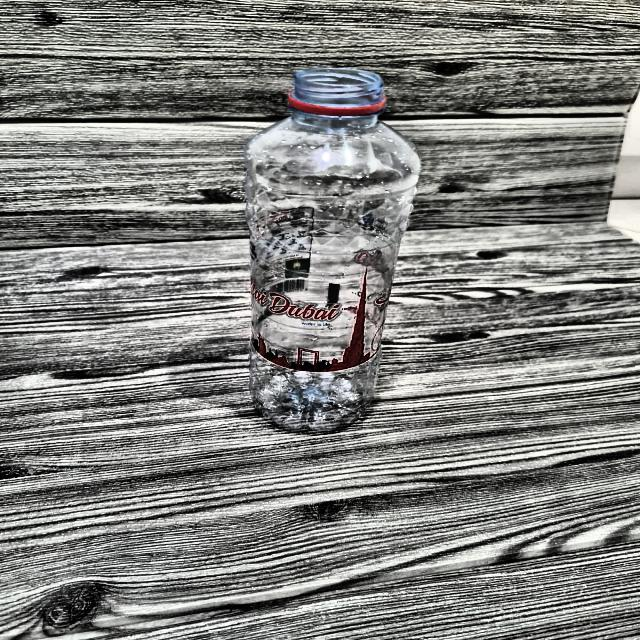Bottles: (230, 39, 428, 441)
